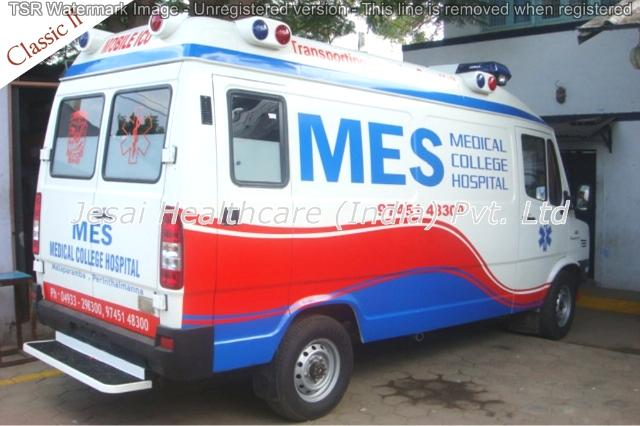ambulance: (31, 7, 596, 411)
